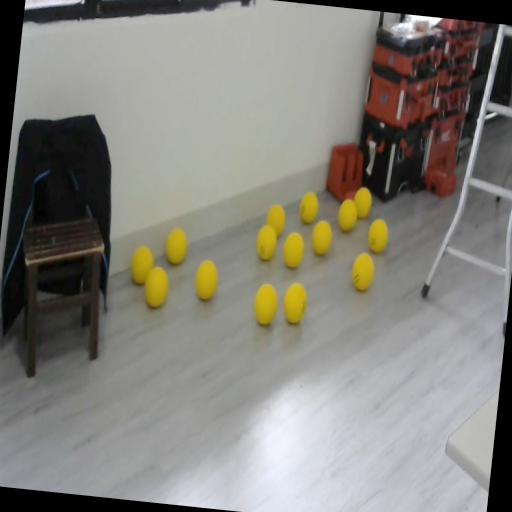FUEL: (192, 257, 222, 302), (251, 280, 280, 326), (142, 263, 171, 309), (282, 280, 310, 326), (128, 242, 156, 286), (163, 224, 190, 266), (350, 252, 376, 292), (282, 230, 306, 270), (310, 219, 334, 257), (264, 203, 288, 239), (366, 218, 390, 253), (298, 190, 320, 224), (351, 186, 373, 220), (336, 198, 358, 232)
